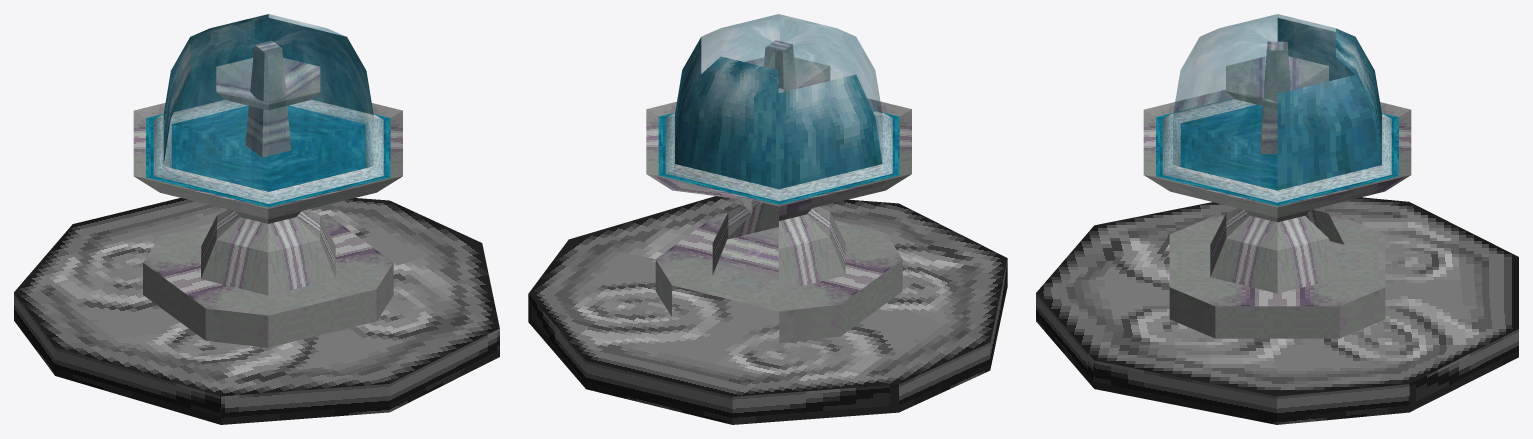
File: Fountain.obj
3 renders of one model, left to right at view 1: azimuth 30°, elevation 25°; view 2: azimuth 150°, elevation 25°; view 3: azimuth 270°, elevation 25°, orthographic.
Visible parts, largest first — view 1: plate01, Water_3, base_1, Water_1, Fountain_1, Water, top_1, Water_2; view 2: plate01, Water, base_1, Fountain_1, Water_3, Water_2, Water_1, top_1; view 3: plate01, Water_3, base_1, Fountain_1, Water, Water_1, Water_2, top_1.
Boxes of the visible parts, left/top/right/bottom form: plate01: left=14, top=198, right=499, bottom=424; Water_3: left=164, top=14, right=373, bottom=191; base_1: left=143, top=215, right=393, bottom=347; Water_1: left=146, top=104, right=390, bottom=207; Fountain_1: left=133, top=103, right=402, bottom=295; Water: left=162, top=14, right=373, bottom=170; top_1: left=216, top=40, right=320, bottom=157; Water_2: left=153, top=99, right=383, bottom=203; plate01: left=528, top=196, right=1007, bottom=424; Water: left=674, top=37, right=882, bottom=196; base_1: left=655, top=213, right=902, bottom=343; Fountain_1: left=646, top=98, right=911, bottom=291; Water_3: left=701, top=14, right=882, bottom=161; Water_2: left=665, top=110, right=892, bottom=201; Water_1: left=658, top=110, right=899, bottom=204; top_1: left=745, top=40, right=830, bottom=203; plate01: left=1036, top=197, right=1518, bottom=424; Water_3: left=1173, top=14, right=1354, bottom=190; base_1: left=1169, top=215, right=1385, bottom=338; Fountain_1: left=1143, top=89, right=1411, bottom=293; Water: left=1277, top=18, right=1382, bottom=197; Water_1: left=1156, top=98, right=1398, bottom=205; Water_2: left=1162, top=98, right=1391, bottom=202; top_1: left=1226, top=41, right=1328, bottom=153.
Size of the model in its own units: 4.77 by 3.07 by 4.7.
6 materials, 6 textured.
